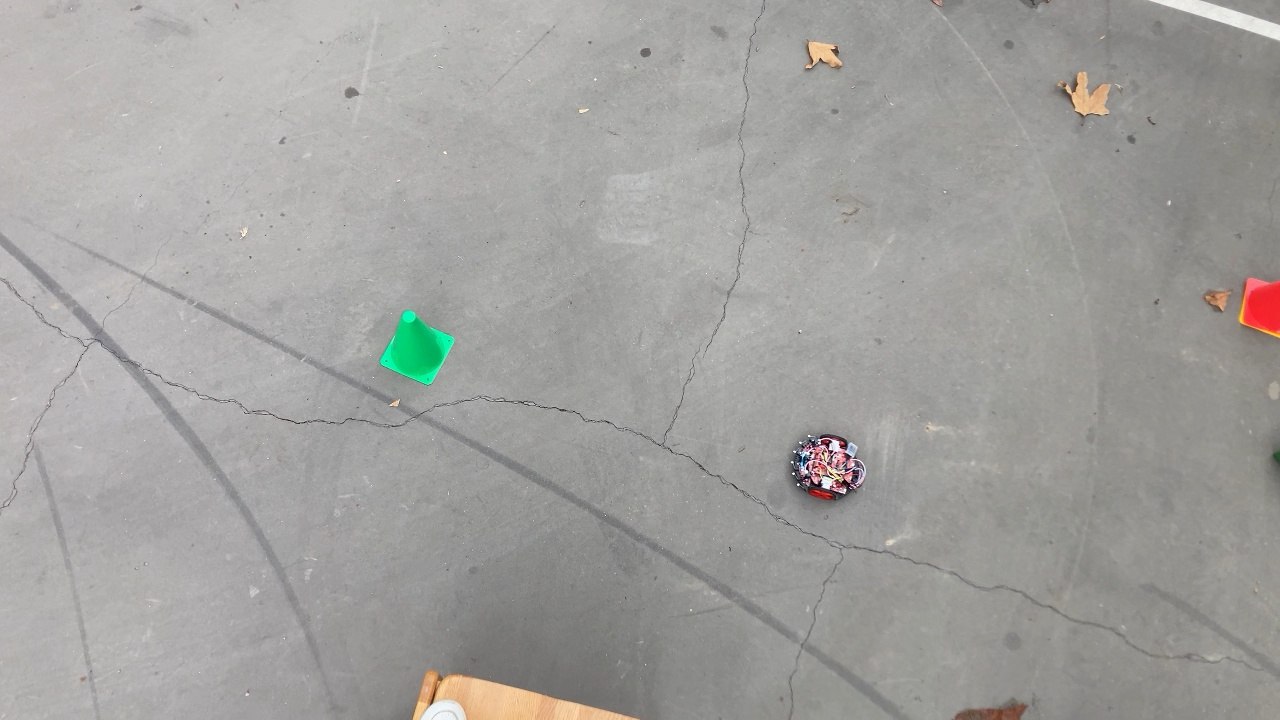green_cone: (373, 308, 458, 391)
robot: (785, 433, 868, 503)
